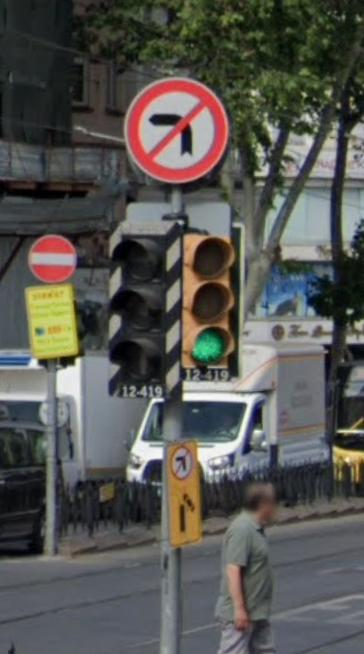greenlight: (185, 234, 242, 367)
leftturnsareforbidden: (128, 80, 225, 179), (166, 443, 200, 481)
